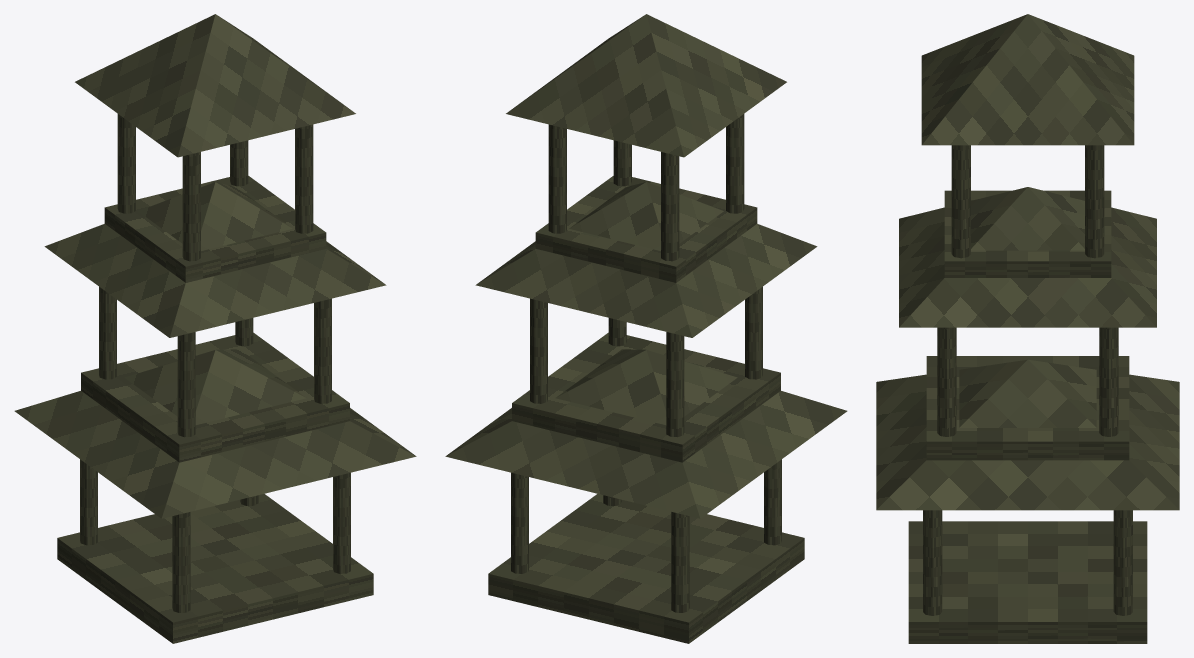
The model's file is pagoda_24.glb.
3 renders of one model, left to right at view 1: azimuth 30°, elevation 25°; view 2: azimuth 150°, elevation 25°; view 3: azimuth 270°, elevation 25°, orthographic. The views are drawn at different scales.
Visible parts, largest first — view 1: Roof, Floor, Roof.001, Roof.002, Floor.001, Floor.002, Column.010, Column.008, Column.004, Column, Column.006, Column.002 (+4 smaller); view 2: Roof, Floor, Roof.001, Roof.002, Floor.001, Floor.002, Column.011, Column.009, Column.005, Column.001, Column.007, Column.003 (+4 smaller); view 3: Roof, Floor, Roof.001, Roof.002, Floor.001, Floor.002, Column.010, Column.011, Column.006, Column.007, Column.002, Column.003.
Boxes of the visible parts, x1,y1,x2,y2 form: Roof: (14,349,416,518); Floor: (57,493,373,643); Roof.001: (44,182,386,337); Roof.002: (75,14,355,157); Floor.001: (81,332,349,462); Floor.002: (104,176,326,282); Column.010: (295,124,313,233); Column.008: (182,152,200,261); Column.004: (177,332,195,437); Column: (172,512,190,612); Column.006: (314,298,331,403); Column.002: (333,472,350,573); Roof: (445,349,847,518); Floor: (488,493,804,643); Roof.001: (475,182,817,337); Roof.002: (506,14,786,157); Floor.001: (512,332,780,462); Floor.002: (535,176,757,282); Column.011: (548,124,566,233); Column.009: (661,152,679,261); Column.005: (666,332,684,437); Column.001: (671,512,689,612); Column.007: (530,298,547,403); Column.003: (511,472,528,573); Roof: (876,359,1179,510); Floor: (908,521,1147,643); Roof.001: (899,187,1156,327); Roof.002: (921,14,1134,145); Floor.001: (926,356,1129,460); Floor.002: (944,190,1111,277); Column.010: (951,145,970,258); Column.011: (1085,145,1104,258); Column.006: (937,327,956,436); Column.007: (1099,327,1118,436); Column.002: (923,510,942,615); Column.003: (1113,510,1132,615).
Bounding box in the file's own units: 3.75 × 7.91 × 3.75.
Materials: 1 (1 with a texture image).
